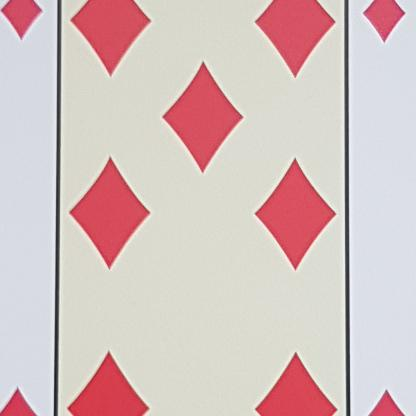7d: (346, 0, 415, 63), (0, 0, 62, 55)
